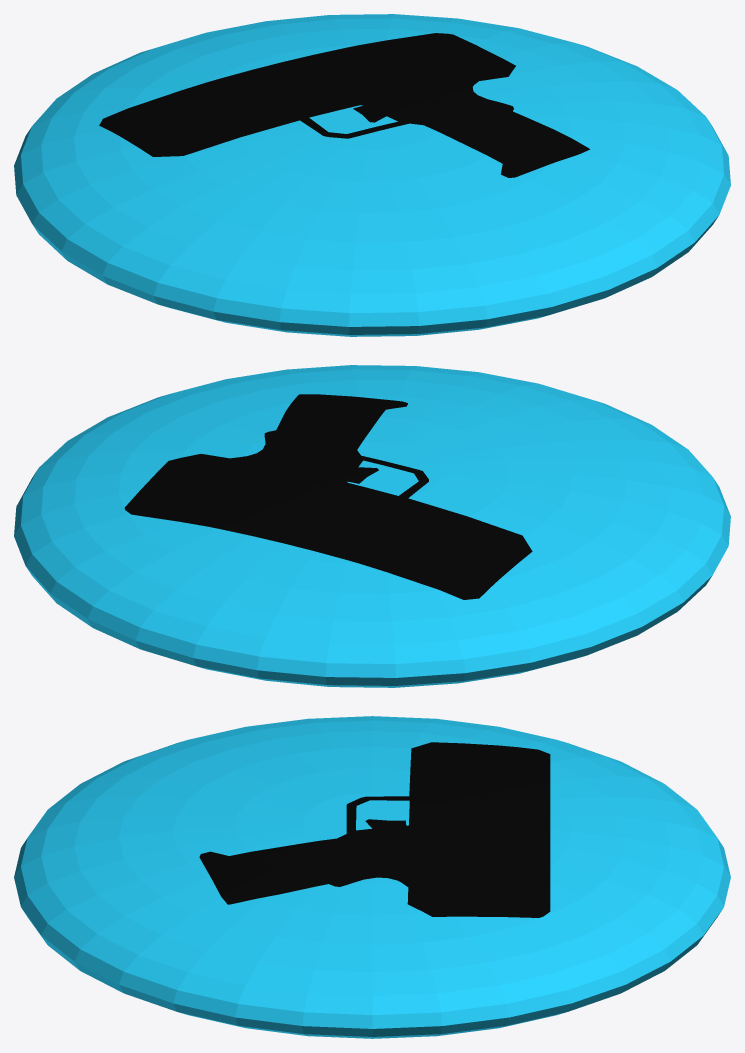
File: button1.fbx
The picture shows the model from 3 angles, top to bottom: view 1: azimuth 30°, elevation 25°; view 2: azimuth 150°, elevation 25°; view 3: azimuth 270°, elevation 25°; orthographic projection.
Visible parts, largest first — view 1: Sphere; view 2: Sphere; view 3: Sphere.
Boxes of the visible parts, bbox=[...] form: Sphere: bbox=[14, 14, 730, 336]; Sphere: bbox=[14, 365, 730, 687]; Sphere: bbox=[14, 716, 730, 1038].
Size of the model in its own units: 200 by 34.42 by 200.
